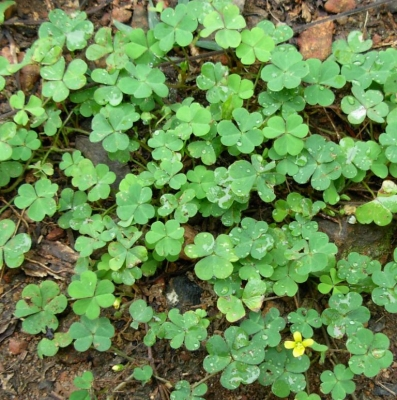oxalis: (29, 20, 382, 386)
